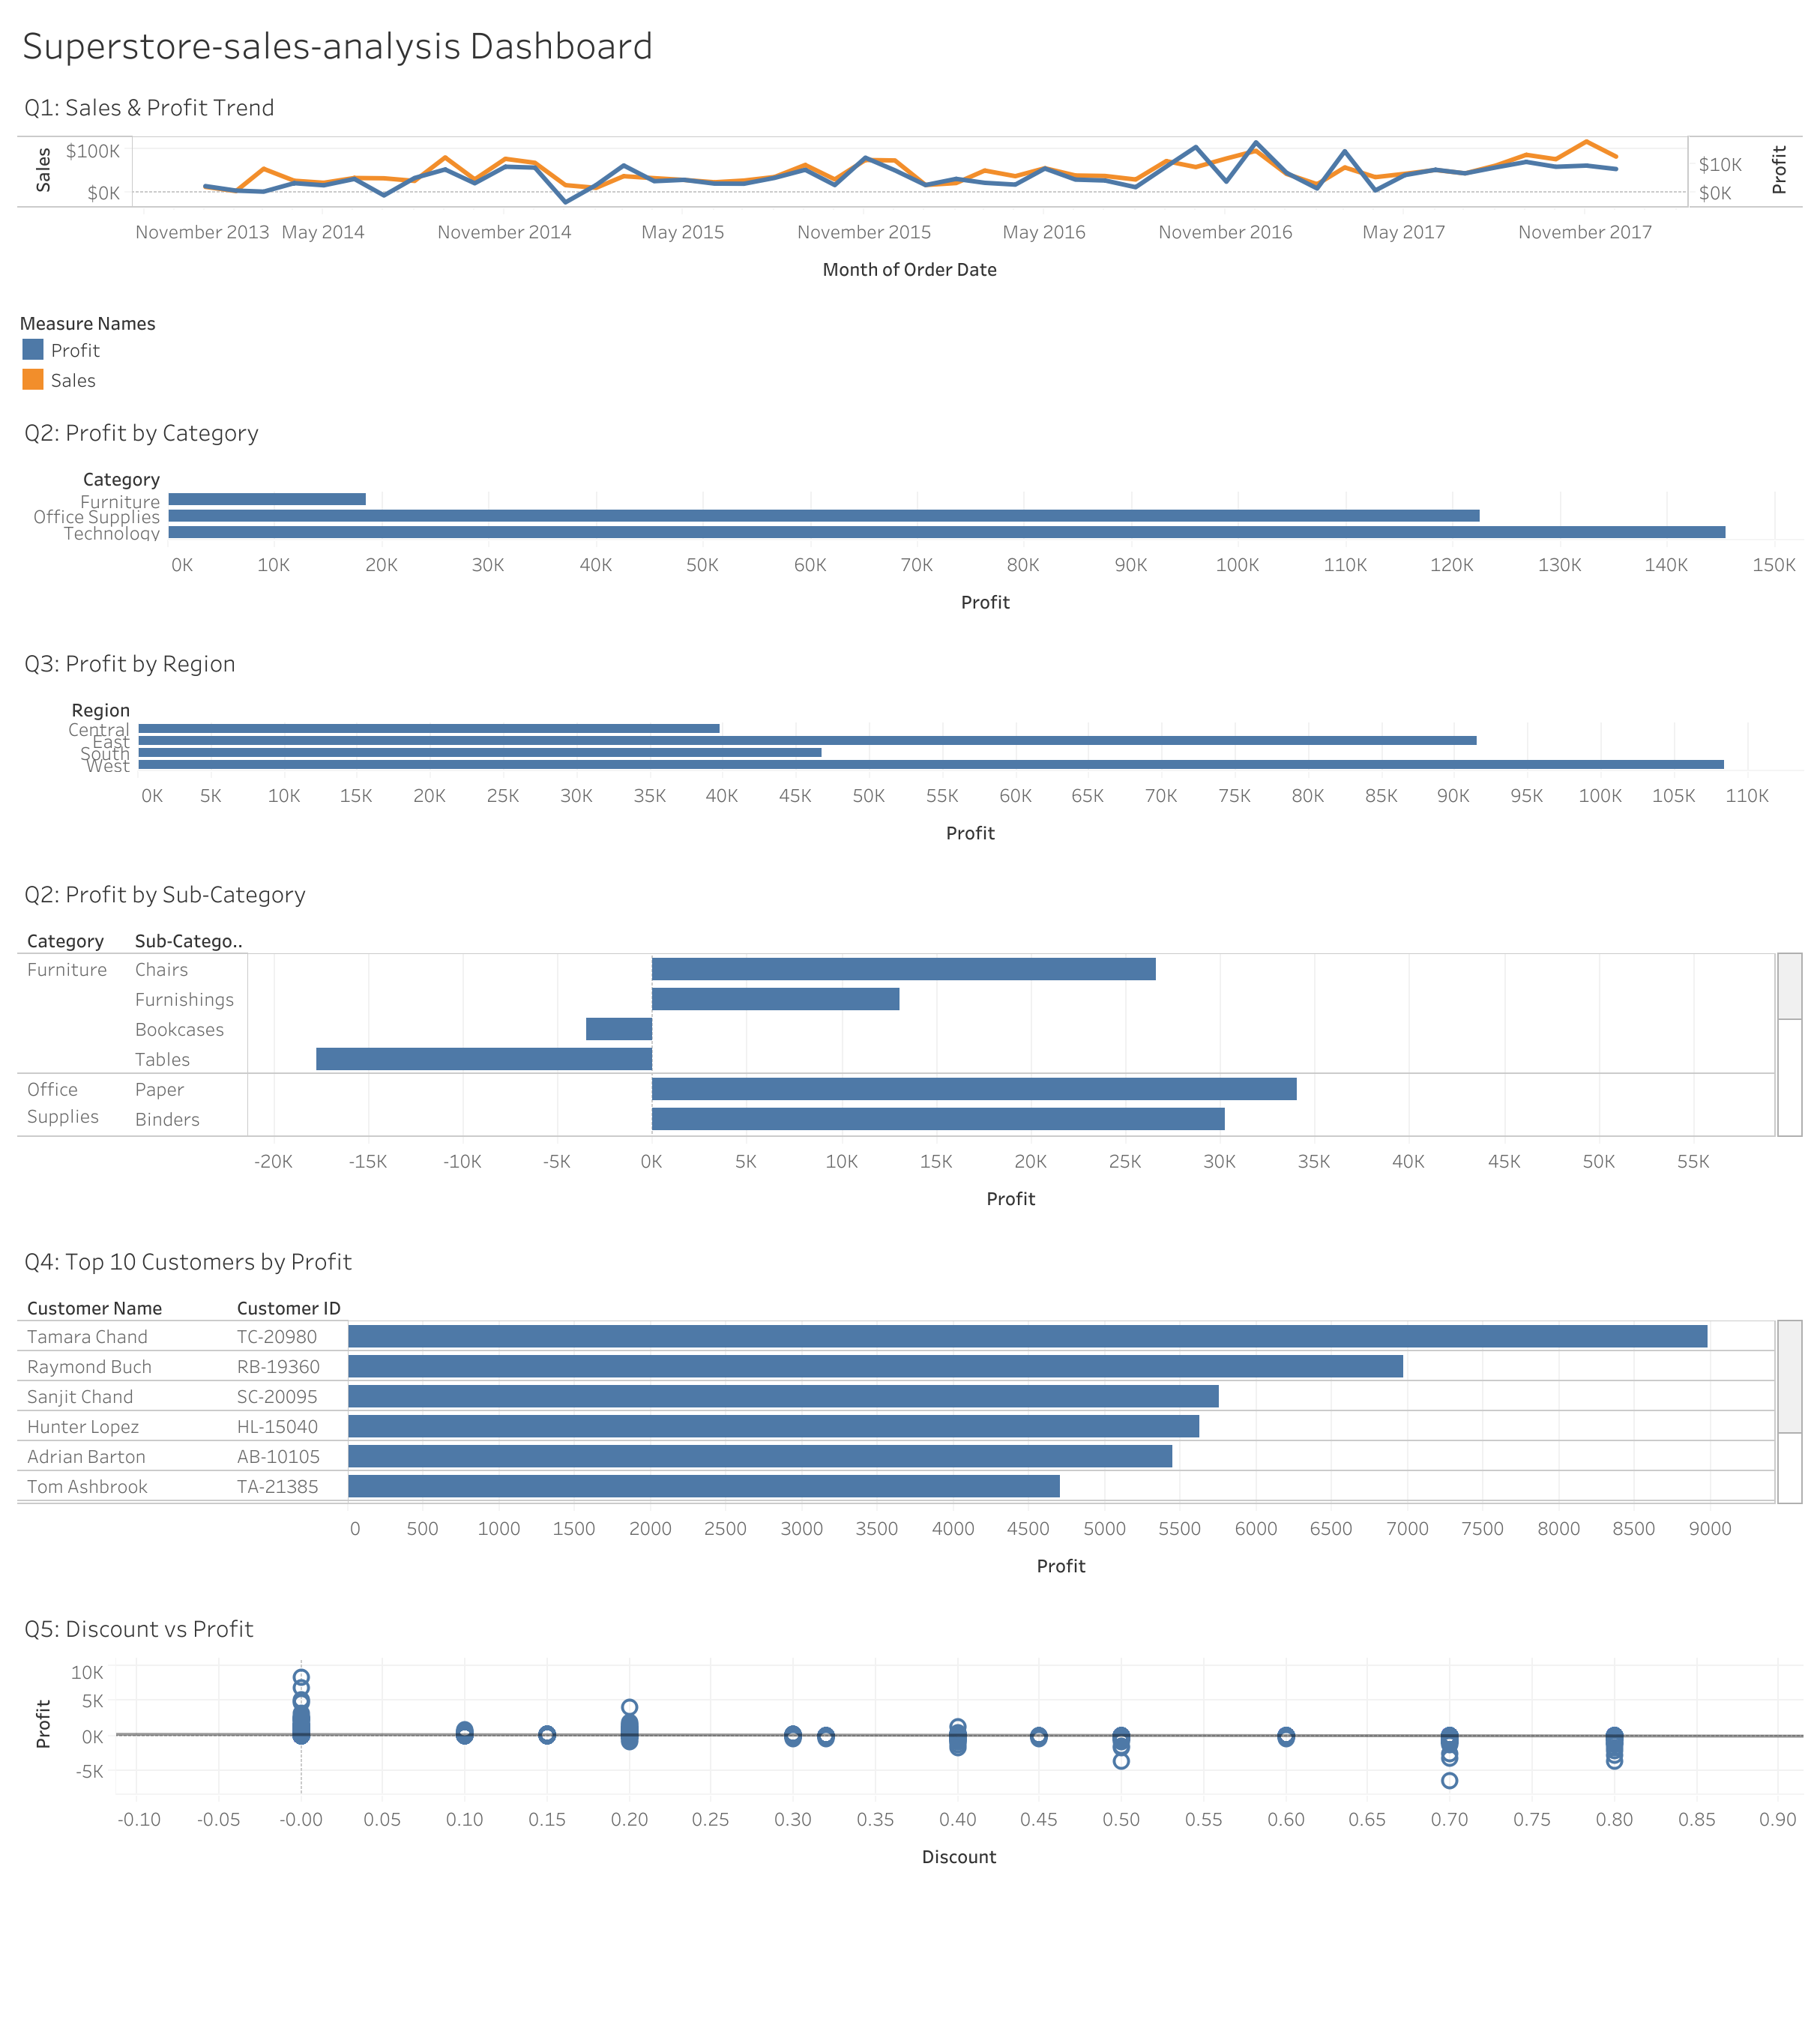

The dashboard page shown, as its layout file describes it:
{"tool":"tableau","page":{"name":"Superstore-sales-analysis Dashboard","canvas":[1000,800],"ordinal":0},"visuals":[{"type":"title","box":[8,8,824,42]},{"type":"legend","title":"Q1: Sales & Profit Trend","param":"[federated.0kt5u9p0d38jq21dp5oy21ma4xx7].[:Measure Names]","box":[832,8,160,66]},{"type":"worksheet","title":"Q1: Sales & Profit Trend","mark":"Automatic","rows":["Sales","Profit"],"cols":["Order Date"],"box":[8,50,824,150]},{"type":"legend","title":"Q5: Discount vs Profit","param":"[federated.0kt5u9p0d38jq21dp5oy21ma4xx7].[none:Category:nk]","box":[832,74,160,22]},{"type":"worksheet","title":"Q2: Profit by Category","mark":"Automatic","rows":["Category"],"cols":["Profit"],"box":[8,200,502,154]},{"type":"worksheet","title":"Q3: Profit by Region","mark":"Automatic","rows":["Region"],"cols":["Profit"],"box":[510,200,482,154]},{"type":"worksheet","title":"Q2: Profit by Sub-Category","mark":"Automatic","rows":["Category","Sub-Category"],"cols":["Profit"],"box":[8,354,656,245]},{"type":"worksheet","title":"Q4: Top 10 Customers by Profit","mark":"Automatic","rows":["Customer Name","Customer ID"],"cols":["Profit"],"box":[664,354,328,245]},{"type":"worksheet","title":"Q5: Discount vs Profit","mark":"Automatic","rows":["Profit"],"cols":["Discount"],"box":[8,599,984,193]}]}

Visuals, with their boxes on the page's 1000x800 design canvas (x1, y1, x2, y2). These are canvas units, not pixel positions in the 1820x2022 screenshot, which may show the page scaled, cropped or inside an application window:
title: 8, 8, 832, 50
"Q1: Sales & Profit Trend" legend: 832, 8, 992, 74
"Q1: Sales & Profit Trend" worksheet: 8, 50, 832, 200
"Q5: Discount vs Profit" legend: 832, 74, 992, 96
"Q2: Profit by Category" worksheet: 8, 200, 510, 354
"Q3: Profit by Region" worksheet: 510, 200, 992, 354
"Q2: Profit by Sub-Category" worksheet: 8, 354, 664, 599
"Q4: Top 10 Customers by Profit" worksheet: 664, 354, 992, 599
"Q5: Discount vs Profit" worksheet: 8, 599, 992, 792
